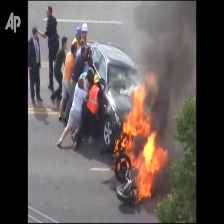fire_h: (120, 70, 167, 199)
fire_l: (117, 156, 129, 171), (114, 139, 120, 158)
